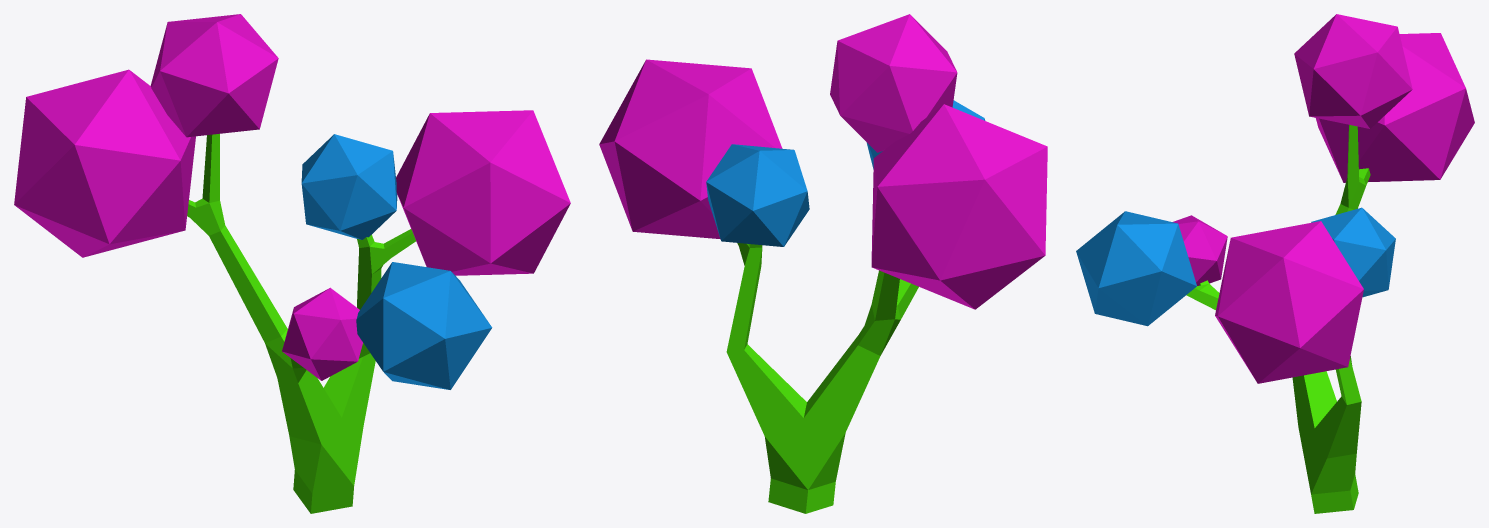
Rendered from Tree2.fbx.
The picture shows the model from 3 angles, left to right: view 1: azimuth 30°, elevation 25°; view 2: azimuth 150°, elevation 25°; view 3: azimuth 270°, elevation 25°; orthographic projection. The views are drawn at different scales.
Visible parts, largest first — view 1: Tree2_LOD0; view 2: Tree2_LOD0; view 3: Tree2_LOD0.
Boxes of the visible parts, <box> form: Tree2_LOD0: <box>14,14,570,513</box>; Tree2_LOD0: <box>599,14,1047,513</box>; Tree2_LOD0: <box>1076,14,1474,513</box>.
Size of what is drawn, in the model's own units: 483 by 476 by 385.
